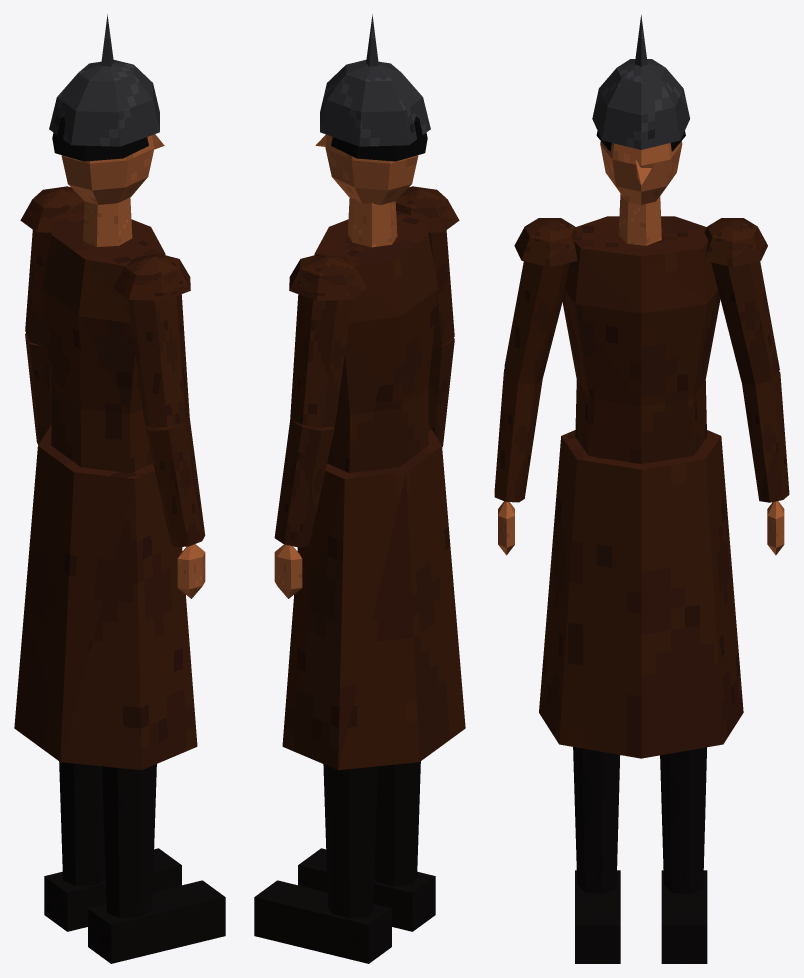
The model's file is guerrero_nomada.glb.
3 views of the same model, side by side, from view 1: azimuth 30°, elevation 25°; view 2: azimuth 150°, elevation 25°; view 3: azimuth 270°, elevation 25° (orthographic).
Visible parts, largest first — view 1: faldon, torso, casco, pierna_der, pie_der, brazo_der, pierna_izq, antebrazo_der, cabeza, pie_izq, hombrera_der, cuello (+5 smaller); view 2: faldon, torso, casco, pierna_izq, pie_izq, brazo_izq, pierna_der, antebrazo_izq, cabeza, pie_der, hombrera_izq, cuello (+5 smaller); view 3: faldon, torso, casco, pierna_der, pierna_izq, brazo_izq, brazo_der, antebrazo_izq, antebrazo_der, cabeza, pie_izq, pie_der (+5 smaller).
Part boxes in pixels (x1,y1,x2,y2): faldon: (14, 424, 197, 770); torso: (41, 210, 165, 473); casco: (49, 14, 159, 146); pierna_der: (102, 764, 156, 917); pie_der: (88, 880, 225, 963); brazo_der: (127, 294, 189, 427); pierna_izq: (59, 761, 105, 885); antebrazo_der: (145, 418, 205, 547); cabeza: (61, 134, 164, 204); pie_izq: (44, 848, 181, 931); hombrera_der: (113, 254, 190, 300); cuello: (83, 197, 132, 246); faldon: (282, 424, 465, 770); torso: (314, 210, 438, 473); casco: (320, 14, 430, 146); pierna_izq: (323, 764, 377, 918); pie_izq: (254, 880, 391, 963); brazo_izq: (290, 294, 352, 427); pierna_der: (374, 761, 420, 886); antebrazo_izq: (274, 419, 334, 547); cabeza: (315, 134, 418, 204); pie_der: (298, 848, 435, 931); hombrera_izq: (289, 254, 366, 300); cuello: (348, 197, 397, 247); faldon: (539, 430, 743, 758); torso: (562, 216, 720, 464); casco: (592, 15, 689, 149); pierna_der: (573, 747, 620, 894); pierna_izq: (660, 747, 706, 894); brazo_izq: (711, 261, 779, 384); brazo_der: (504, 261, 569, 384); antebrazo_izq: (741, 371, 789, 502); antebrazo_der: (494, 369, 542, 502); cabeza: (600, 141, 682, 204); pie_izq: (661, 870, 707, 963); pie_der: (575, 870, 620, 963).
Bounding box in the file's own units: 0.3 × 1.7 × 0.5.
1 material, 1 textured.
